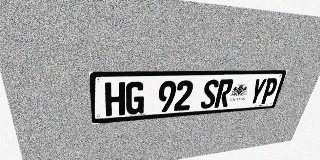2: (174, 80, 194, 111)
9: (157, 81, 177, 112)
G: (125, 81, 145, 115)
H: (105, 82, 125, 116)
P: (259, 78, 279, 104)
R: (214, 79, 234, 108)
S: (200, 79, 220, 109)
Y: (247, 78, 267, 105)
